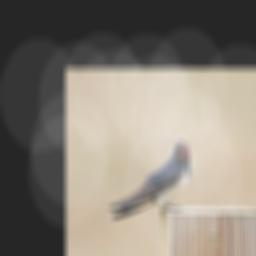Swallow: (83, 138, 192, 231)
